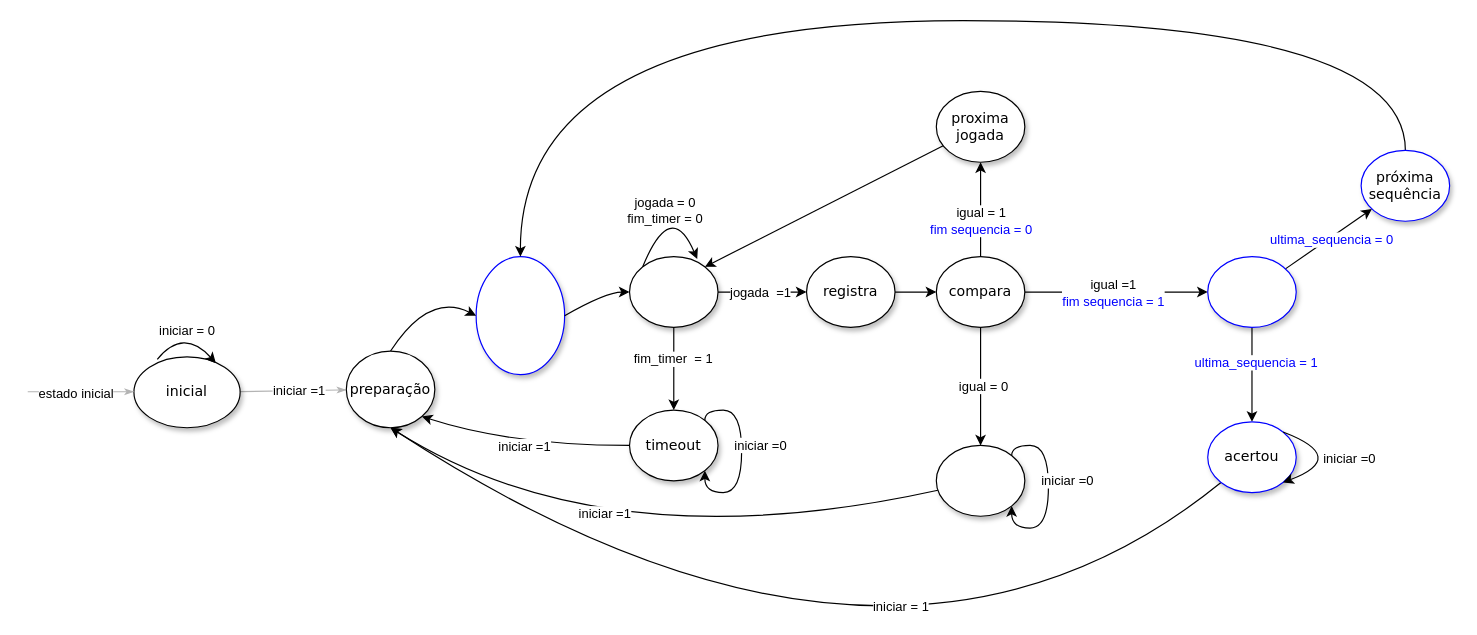
Image size: 1477x635. Some labels were removed from this diagram. Each missing label, with the centre of its shape:
avalia sequência: the point at 1252,293
errou: the point at 981,482
espera: the point at 674,293
inicia sequência: the point at 521,317
